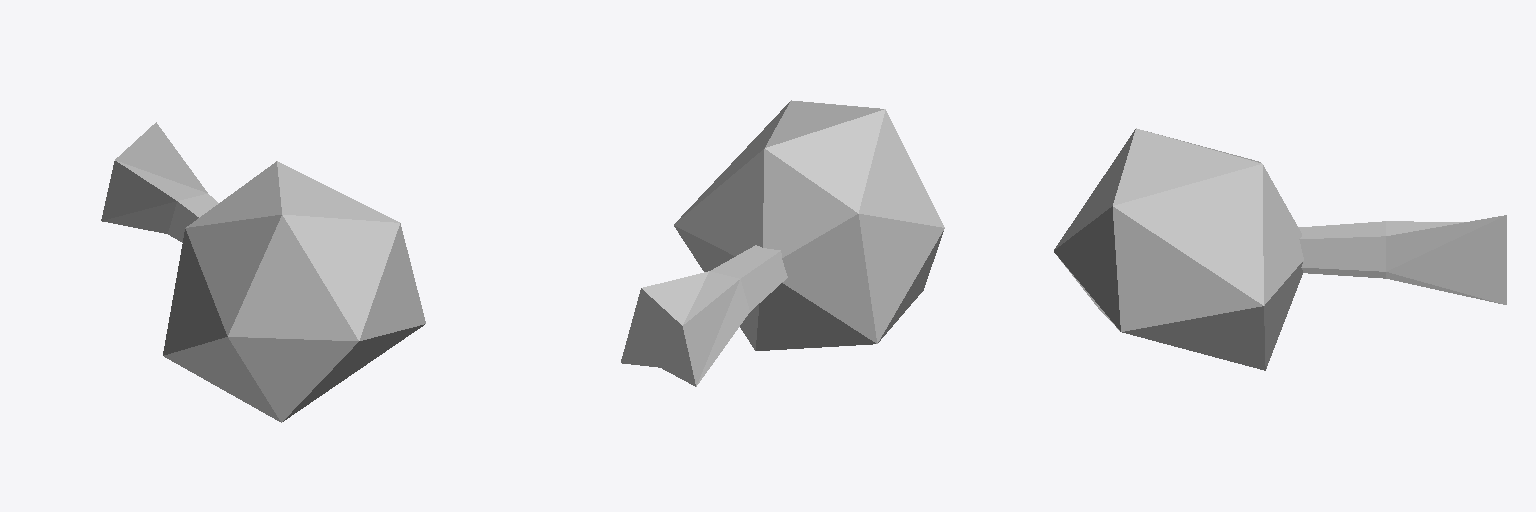
The model's file is tree.obj.
3 renders of one model, left to right at view 1: azimuth 30°, elevation 25°; view 2: azimuth 150°, elevation 25°; view 3: azimuth 270°, elevation 25°, orthographic.
Parts seen in each view (by area): view 1: Cylinder; view 2: Cylinder; view 3: Cylinder.
Boxes of the visible parts, x1,y1,x2,y2 form: Cylinder: [101, 122, 425, 422]; Cylinder: [621, 100, 944, 386]; Cylinder: [1054, 128, 1506, 370].
Bounding box in the file's own units: 6.24 × 6.13 × 11.94.